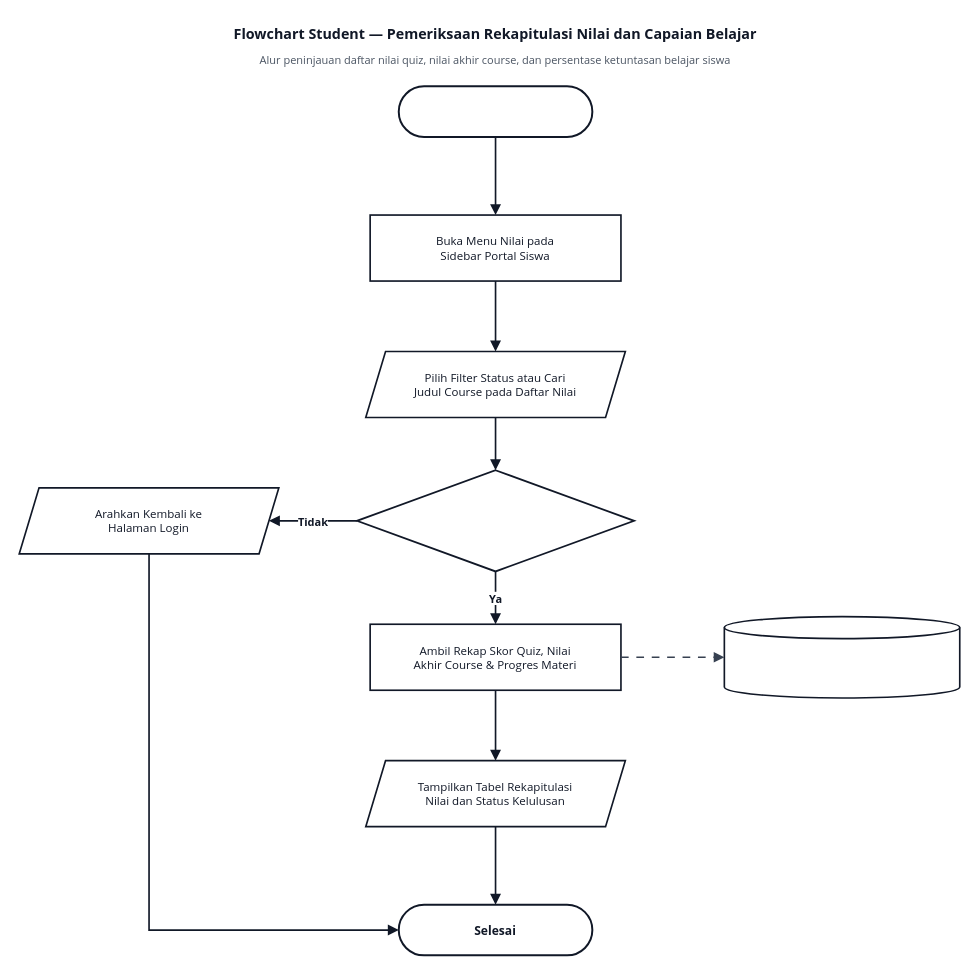
This 980x975 diagram has some shape labels left out. Here are the shapes that lost their labels. From the top down, the centre of each, then its label:
At point (495, 111): "Mulai".
At point (495, 520): "Sesi Siswa Aktif?".
At point (841, 656): "MySQL: course_enrollments & course_quiz_attempts".
